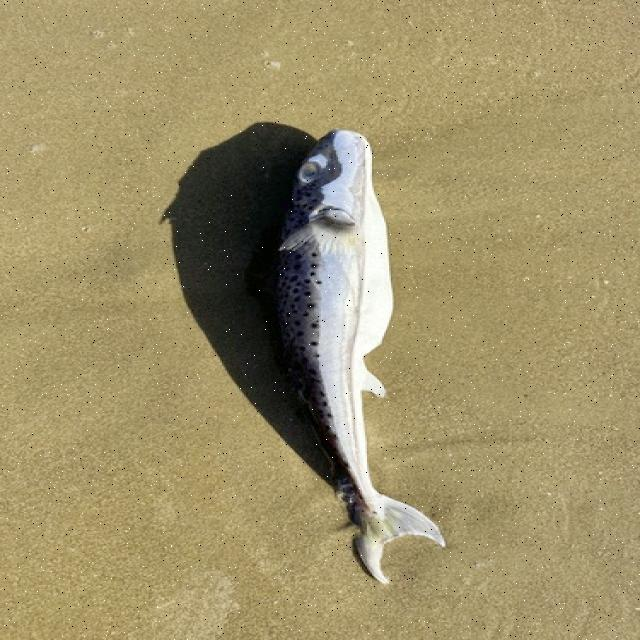Balik: (279, 130, 443, 583)
